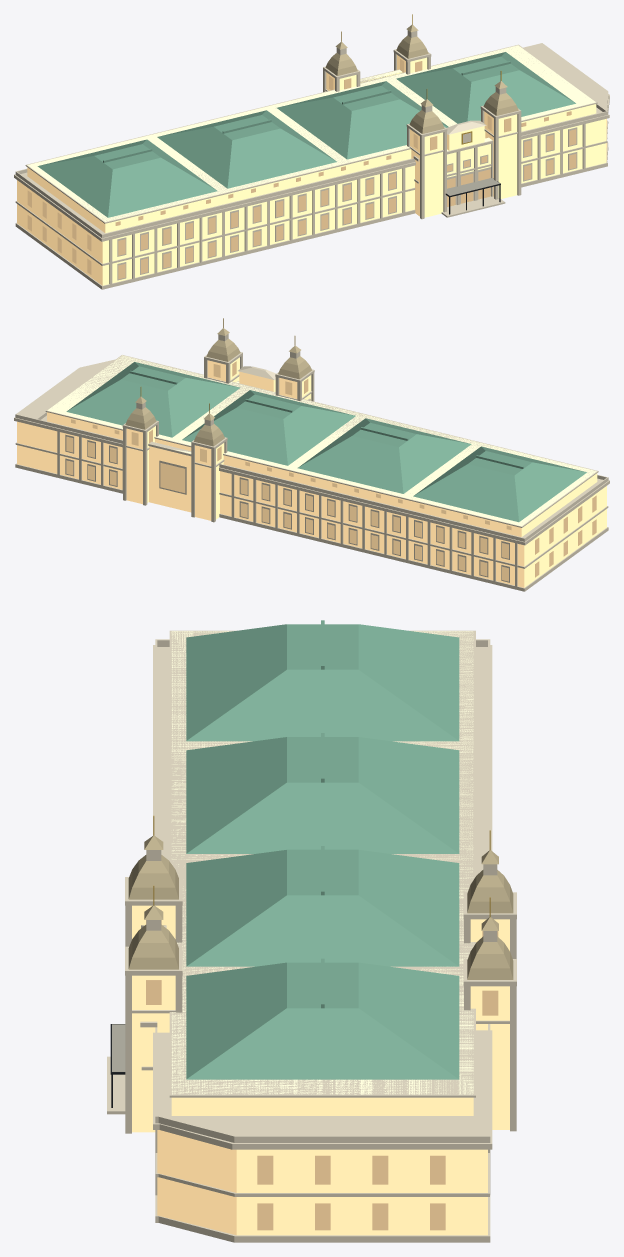
The model's file is mon_casino.glb.
3 renders of one model, top to bottom at view 1: azimuth 30°, elevation 25°; view 2: azimuth 150°, elevation 25°; view 3: azimuth 270°, elevation 25°, orthographic. The views are drawn at different scales.
Parts seen in each view (by area): view 1: monaco-casino-de-monte-carlo; view 2: monaco-casino-de-monte-carlo; view 3: monaco-casino-de-monte-carlo.
Boxes of the visible parts, x1,y1,x2,y2 form: monaco-casino-de-monte-carlo: [14, 14, 609, 289]; monaco-casino-de-monte-carlo: [14, 318, 609, 591]; monaco-casino-de-monte-carlo: [107, 620, 516, 1242].
Size of the model in its own units: 164 by 36.2 by 57.
